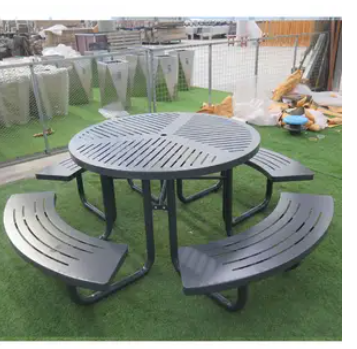obstacle: (3, 105, 334, 319)
